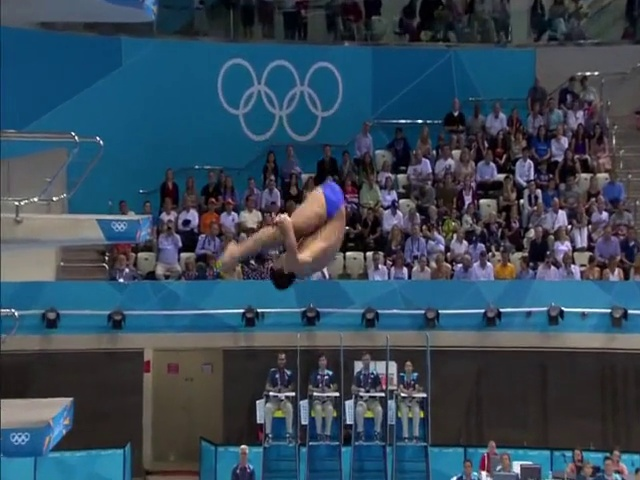diver: (216, 179, 347, 292)
